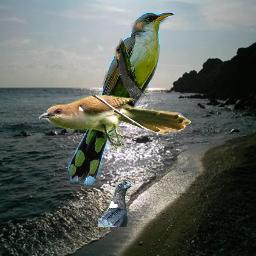Crow: (98, 181, 132, 227)
Cuckoo: (68, 12, 174, 185), (39, 95, 192, 149)
